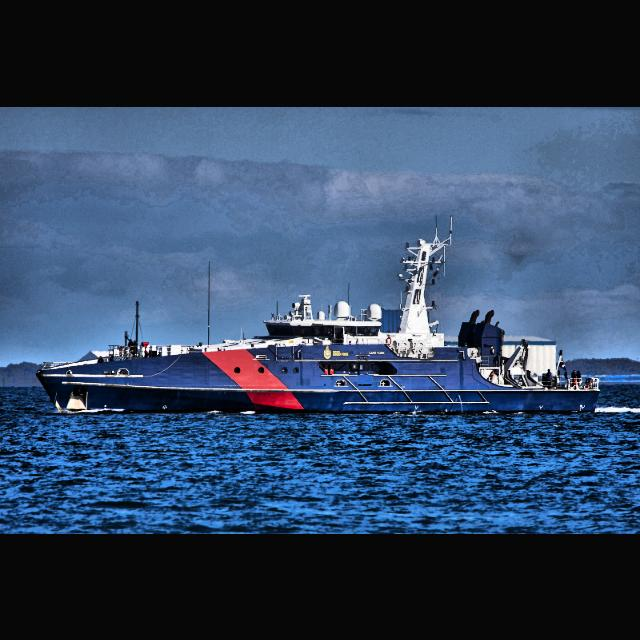patrol_vessel: (36, 216, 604, 416)
